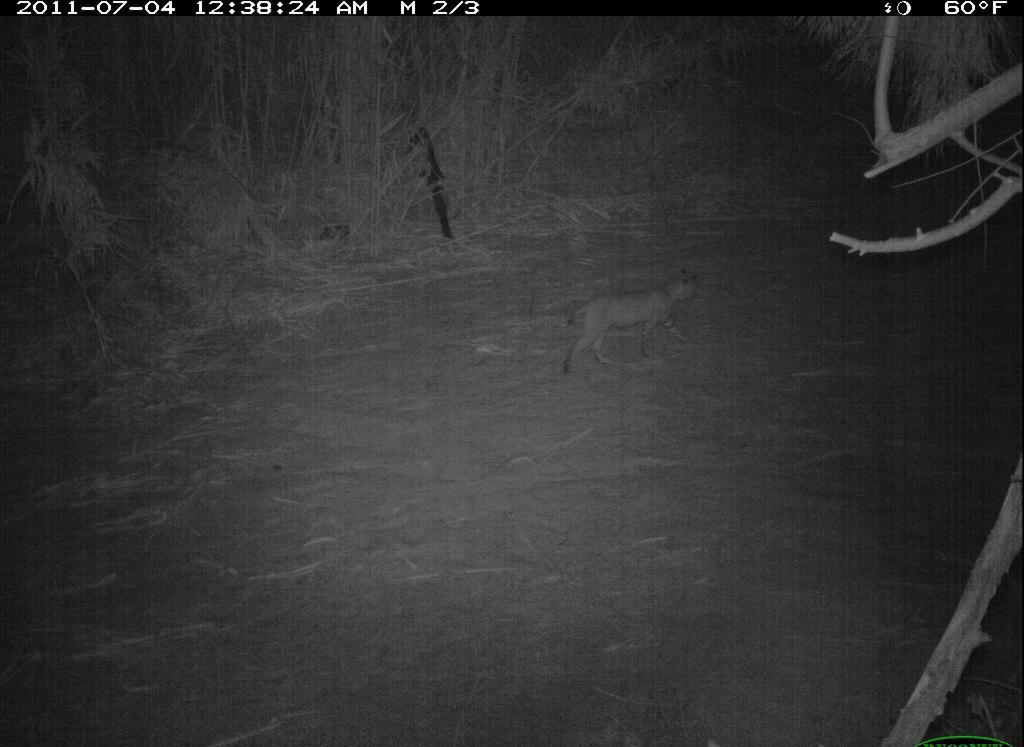bobcat: (539, 260, 708, 381)
